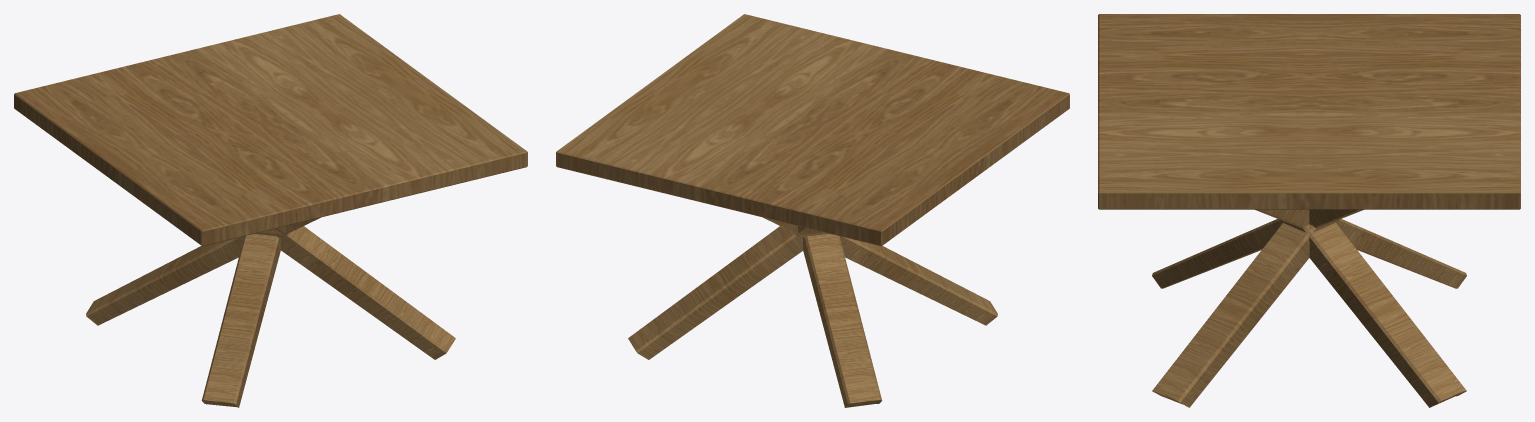
Rendered from square-oak.glb.
3 views of the same model, side by side, from view 1: azimuth 30°, elevation 25°; view 2: azimuth 150°, elevation 25°; view 3: azimuth 270°, elevation 25° (orthographic). The views are drawn at different scales.
Visible parts, largest first — view 1: Wood_Square, Base_Square; view 2: Wood_Square, Base_Square; view 3: Wood_Square, Base_Square.
Boxes of the visible parts, x1,y1,x2,y2 form: Wood_Square: (14, 14, 527, 246); Base_Square: (86, 217, 455, 407); Wood_Square: (556, 14, 1069, 246); Base_Square: (628, 217, 997, 407); Wood_Square: (1098, 14, 1520, 209); Base_Square: (1152, 209, 1466, 407).
Size of the model in its own units: 1.22 by 0.762 by 1.22.
Materials: 1 (1 with a texture image).
